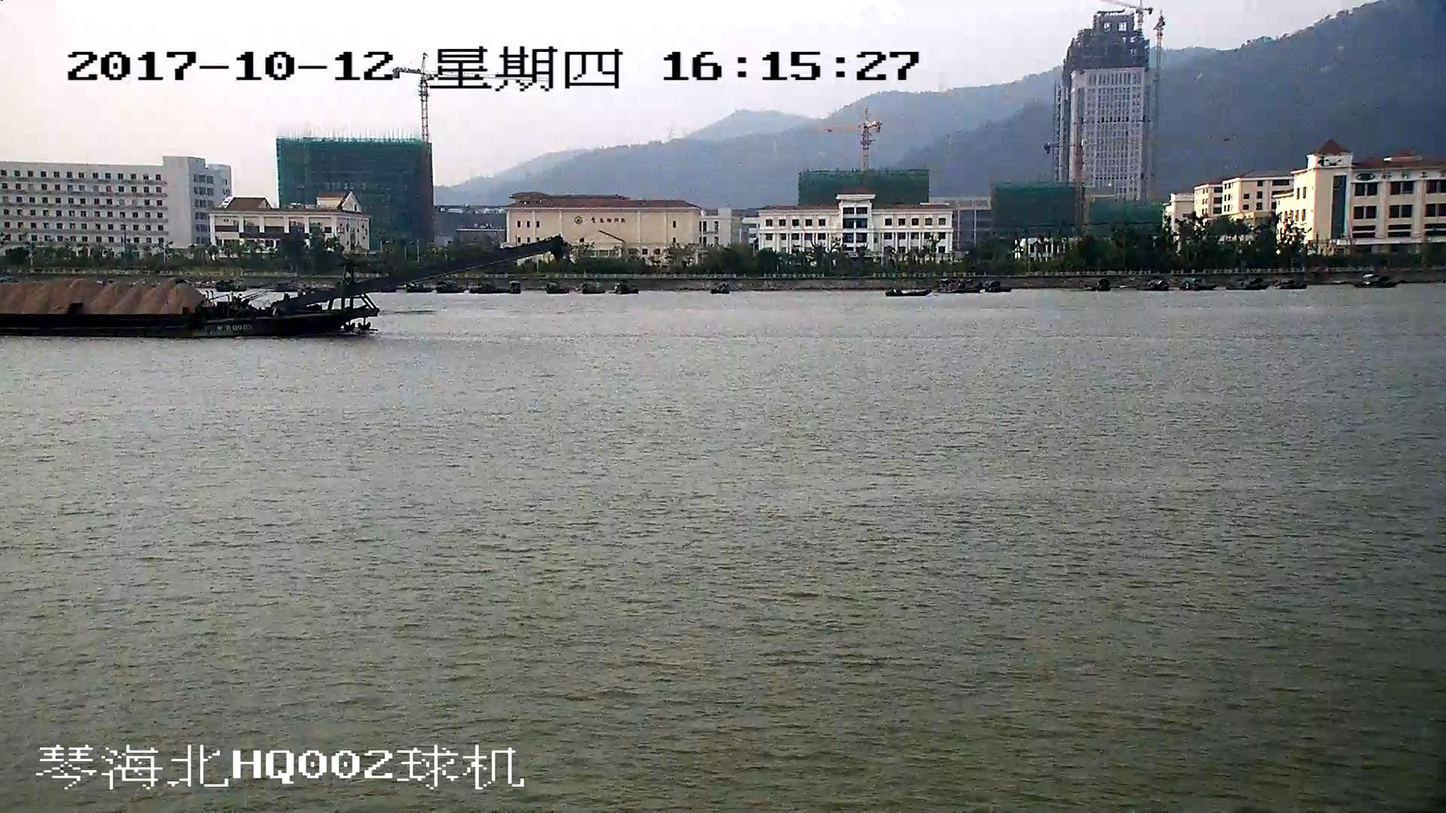ore carrier: (0, 238, 557, 336)
